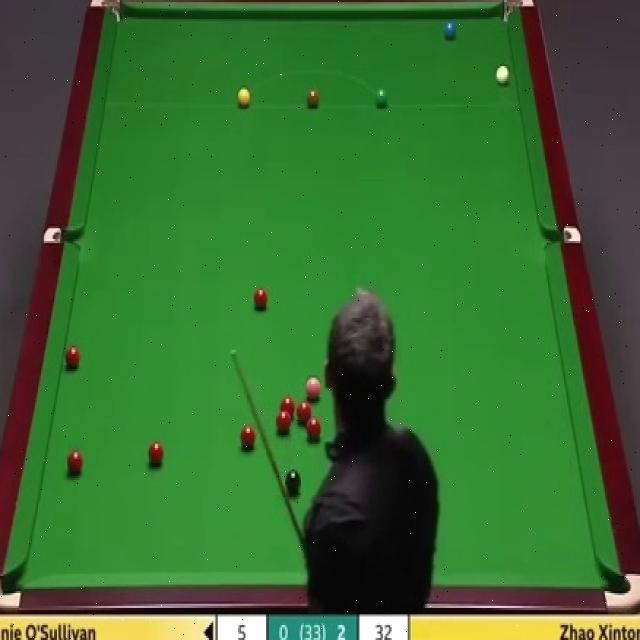black-ball: (285, 471, 301, 494)
blue-ball: (444, 20, 459, 38)
brown-ball: (307, 88, 321, 109)
green-ball: (374, 88, 389, 110)
pink-ball: (305, 375, 321, 401)
red-ball: (147, 440, 165, 467), (240, 424, 257, 452), (64, 344, 82, 369), (305, 415, 322, 440), (66, 449, 84, 472), (298, 397, 315, 421), (280, 395, 296, 419), (252, 288, 268, 312), (276, 411, 292, 433)
white-ball: (496, 66, 509, 86)
yellow-ball: (236, 87, 252, 108)
